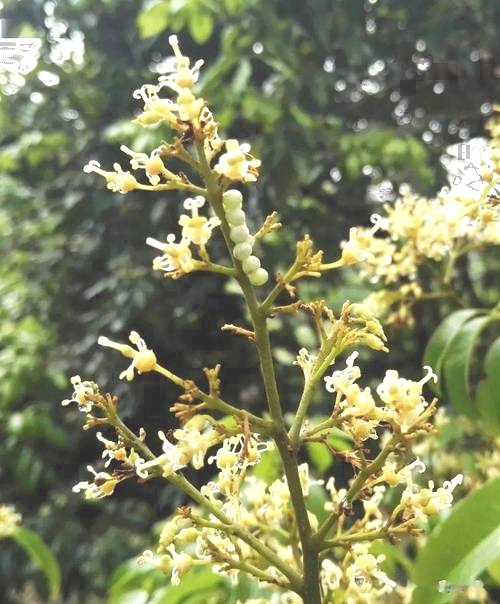Stink_Bug: (165, 158, 292, 303)
